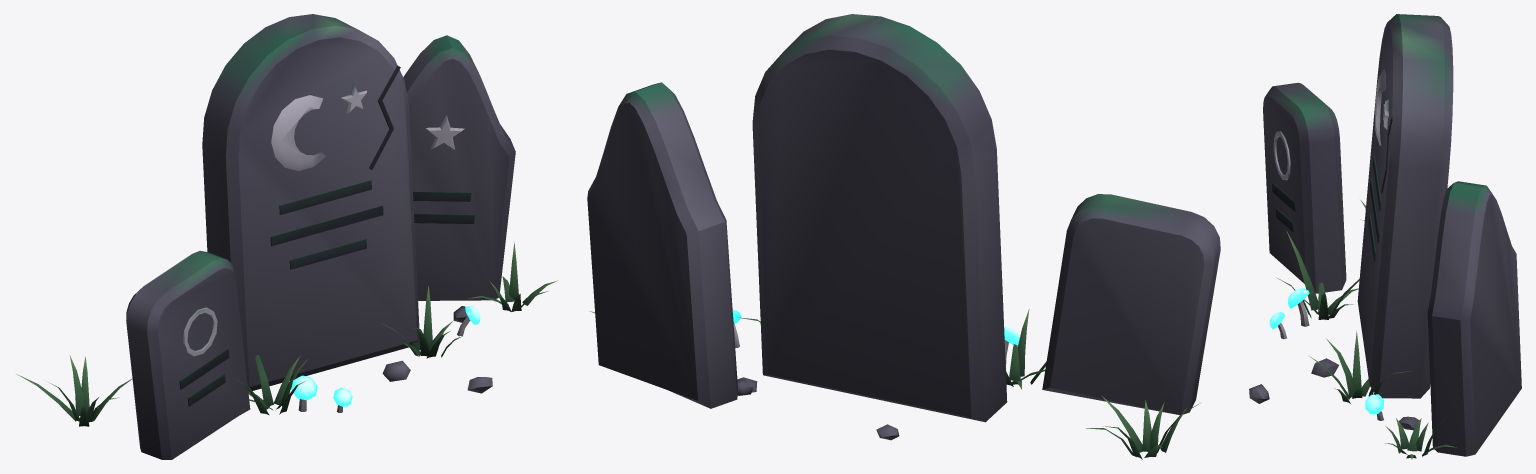
The model's file is gravestone.glb.
The picture shows the model from 3 angles, left to right: view 1: azimuth 30°, elevation 25°; view 2: azimuth 150°, elevation 25°; view 3: azimuth 270°, elevation 25°; orthographic projection. The views are drawn at different scales.
Parts seen in each view (by area): view 1: gravestone; view 2: gravestone; view 3: gravestone.
Boxes of the visible parts, x1,y1,x2,y2 form: gravestone: (16,14,557,459); gravestone: (587,14,1220,459); gravestone: (1249,14,1521,459).
Size of the model in its own units: 2 by 1.2 by 0.9026.
